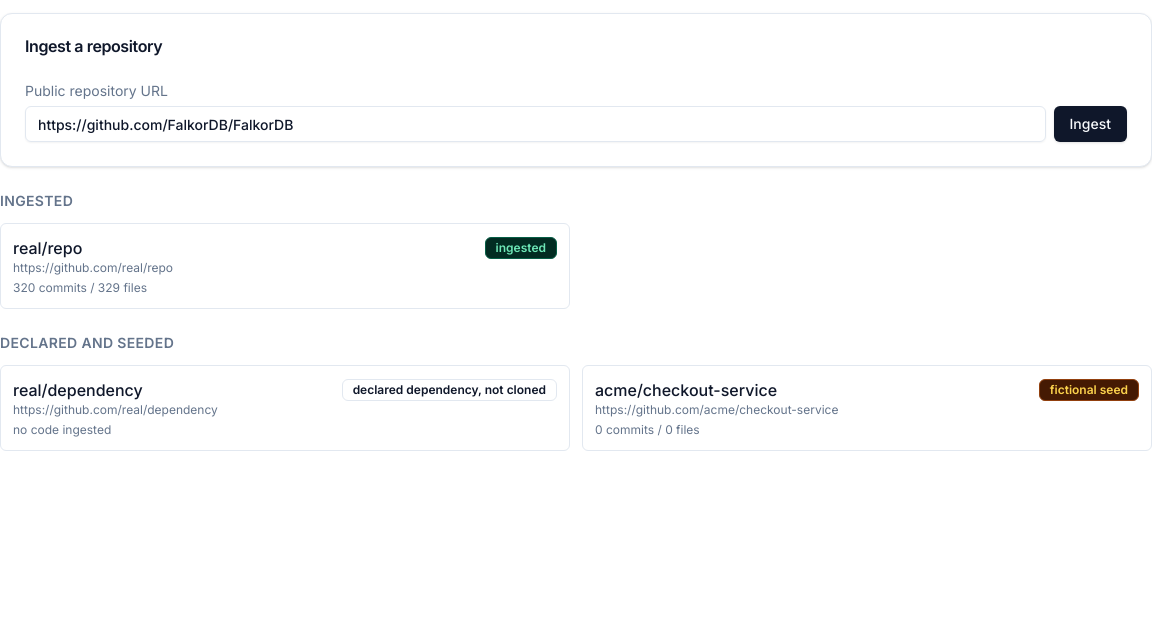
it: RepositoriesView › offers the code panels for an ingested repository
The image size is (1152, 637).
Click the button "real/repo" at (48, 248), box [0, 223, 570, 309]
(page scrolled)
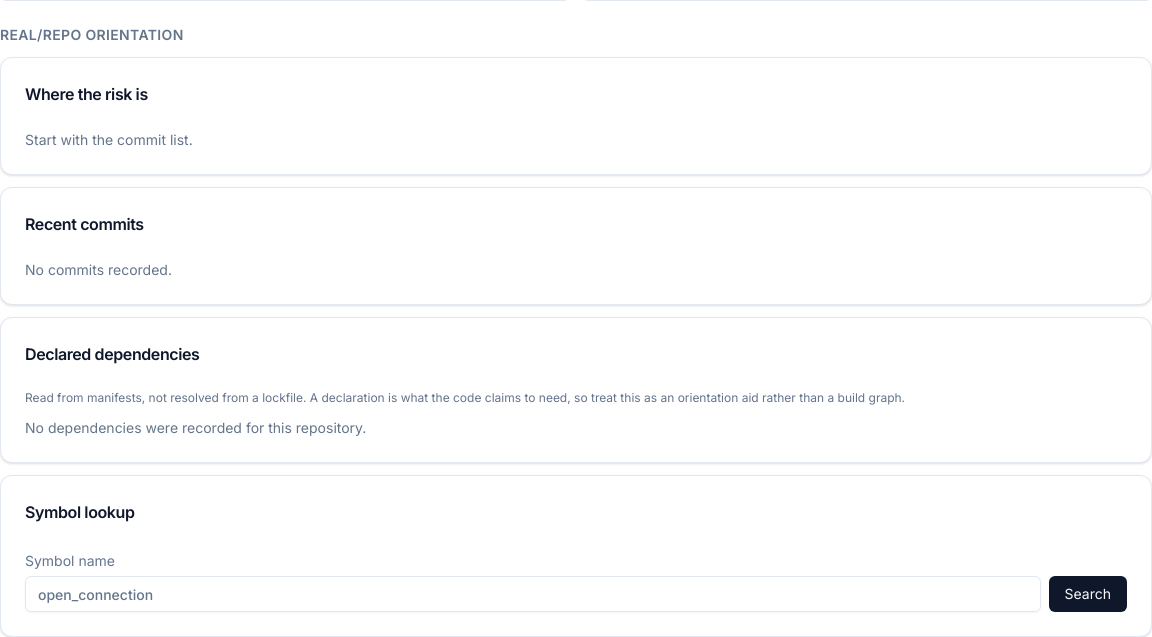
Expected: the text "Recent commits" is shown, [25, 214, 144, 234]
Expected: the text "Declared dependencies" is shown, [25, 344, 200, 364]
Expected: the text "Symbol lookup" is shown, [25, 502, 134, 522]
